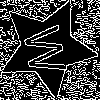W: (22, 22, 76, 77)
